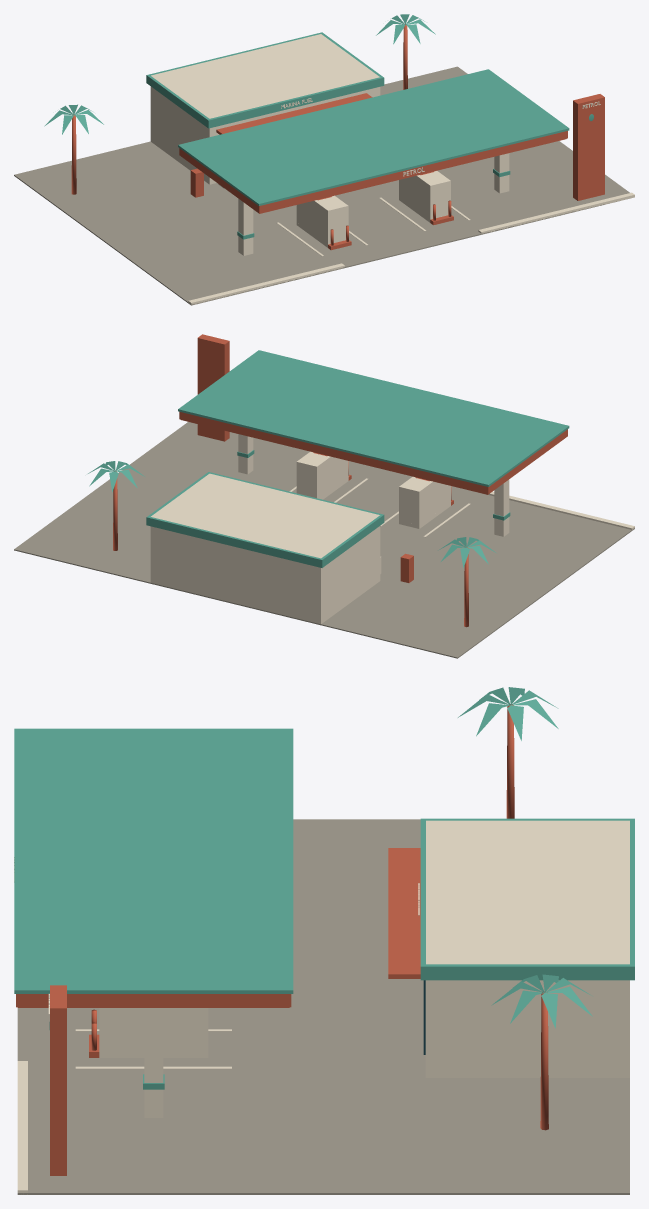
The model's file is oc_petrol_forecourt_01.glb.
3 renders of one model, top to bottom at view 1: azimuth 30°, elevation 25°; view 2: azimuth 150°, elevation 25°; view 3: azimuth 270°, elevation 25°, orthographic. The views are drawn at different scales.
Visible parts, largest first — view 1: LOD1_OC_Concrete, LOD1_OC_Deco_Mint, LOD2_OC_Stucco_Ivory, LOD1_OC_Stucco_Ivory, LOD1_OC_Coral, LOD2_OC_Coral; view 2: LOD1_OC_Concrete, LOD1_OC_Deco_Mint, LOD2_OC_Stucco_Ivory, LOD1_OC_Stucco_Ivory, LOD1_OC_Coral, LOD2_OC_Coral; view 3: LOD1_OC_Concrete, LOD1_OC_Deco_Mint, LOD2_OC_Stucco_Ivory, LOD1_OC_Stucco_Ivory, LOD1_OC_Coral, LOD2_OC_Coral.
Boxes of the visible parts, x1,y1,x2,y2 form: LOD1_OC_Concrete: [14, 66, 629, 305]; LOD1_OC_Deco_Mint: [44, 14, 593, 239]; LOD2_OC_Stucco_Ivory: [151, 34, 509, 255]; LOD1_OC_Stucco_Ivory: [150, 86, 634, 305]; LOD1_OC_Coral: [71, 24, 577, 250]; LOD2_OC_Coral: [259, 94, 604, 213]; LOD1_OC_Concrete: [14, 422, 634, 658]; LOD1_OC_Deco_Mint: [88, 350, 569, 568]; LOD2_OC_Stucco_Ivory: [150, 434, 509, 624]; LOD1_OC_Stucco_Ivory: [150, 478, 634, 623]; LOD1_OC_Coral: [113, 338, 567, 627]; LOD2_OC_Coral: [181, 334, 487, 494]; LOD1_OC_Concrete: [17, 819, 629, 1194]; LOD1_OC_Deco_Mint: [14, 687, 634, 1089]; LOD2_OC_Stucco_Ivory: [99, 820, 629, 1117]; LOD1_OC_Stucco_Ivory: [14, 857, 629, 1194]; LOD1_OC_Coral: [16, 704, 548, 1130]; LOD2_OC_Coral: [17, 985, 289, 1175].
Size of the model in its own units: 26.05 by 5.5 by 18.26.
